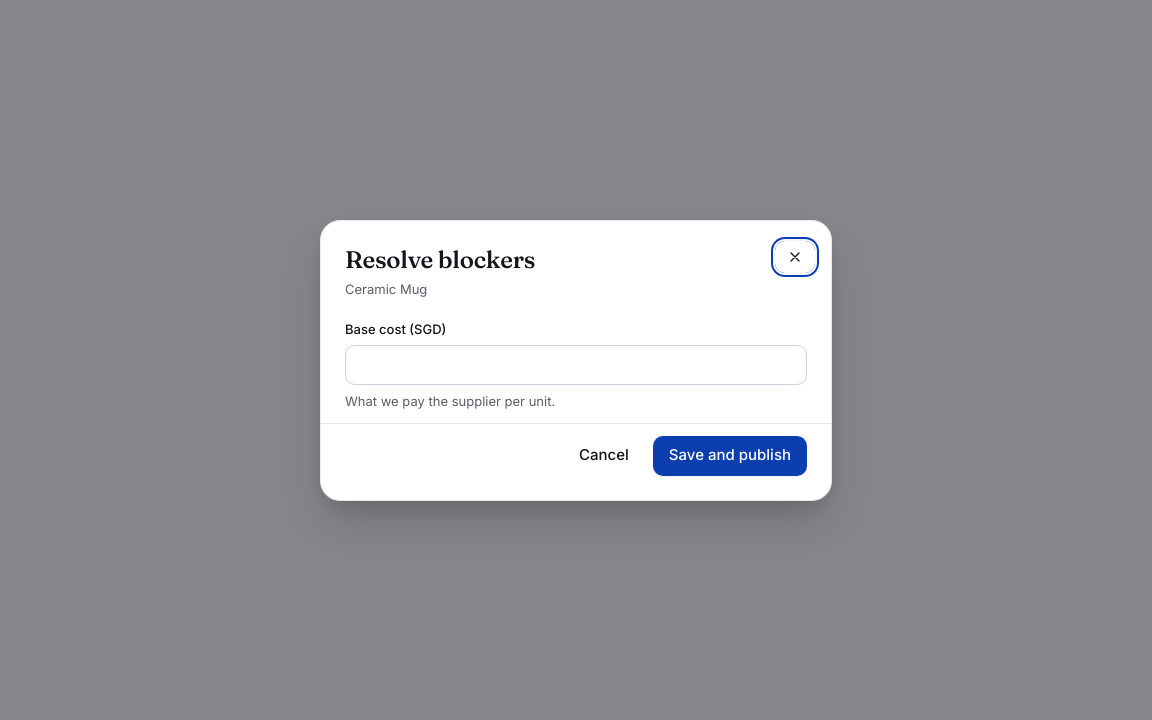
splits survivors into what to retry and what it cannot fix
Type "0.004" into the field labelled "Base cost (SGD)".
click(576, 364); type("0.004")  # box top-left (345, 344), bottom-right (807, 384)
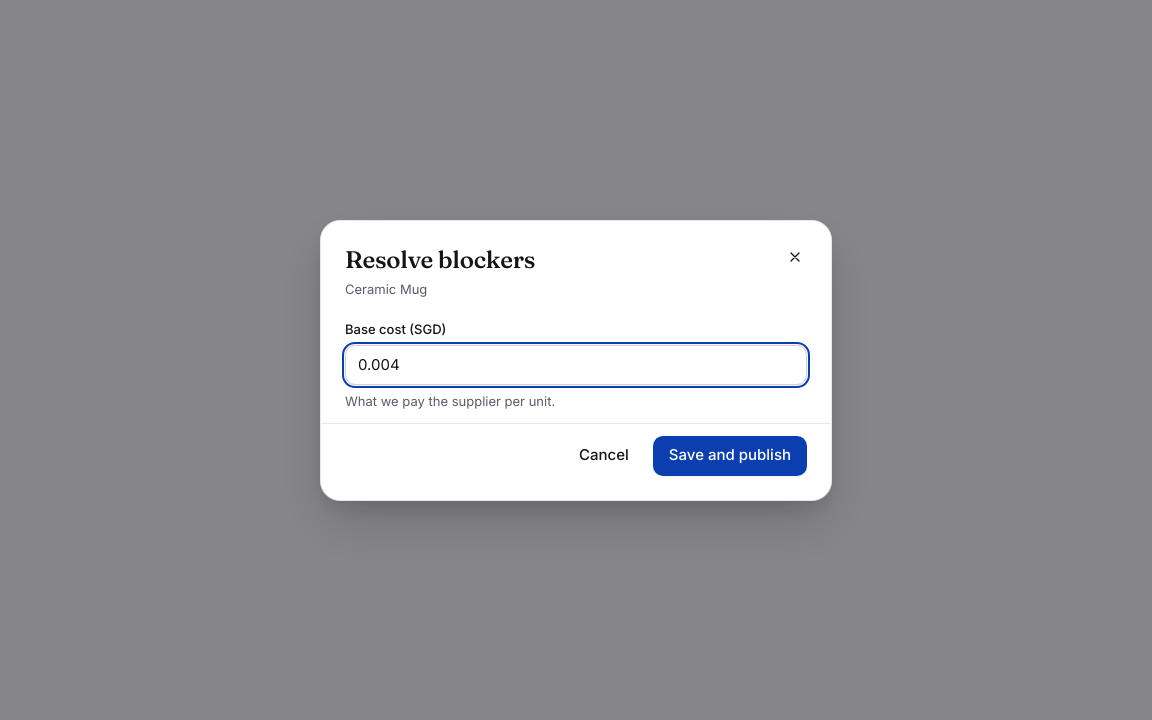
Click the button "Save and publish".
click(730, 456)  # box top-left (653, 436), bottom-right (807, 476)
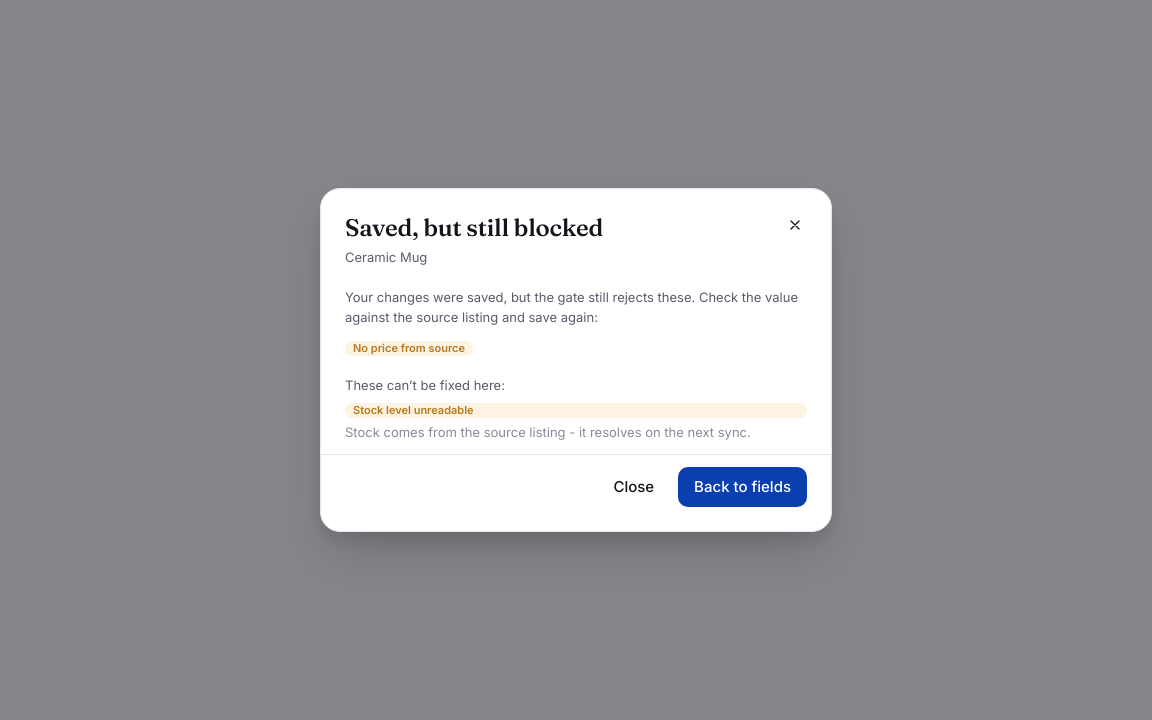
Check: the text "check the value against the source listing" is shown, box top-left (345, 289), bottom-right (798, 325)
Check: the text "No price from source" is shown, box top-left (345, 341), bottom-right (473, 356)
Check: the text "These can’t be fixed here:" is shown, box top-left (345, 377), bottom-right (505, 393)
